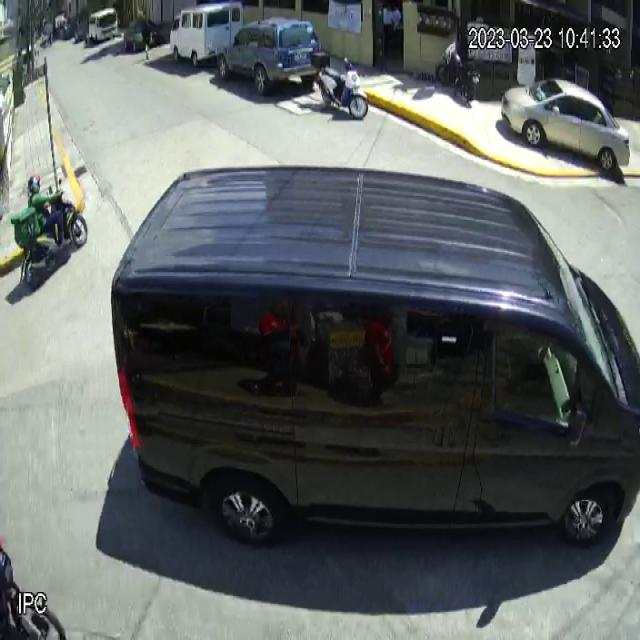Car: (500, 79, 631, 172), (217, 16, 322, 89)
Motorcycle: (19, 177, 88, 289), (310, 50, 369, 117)
Van: (110, 164, 640, 547), (169, 2, 244, 68)
